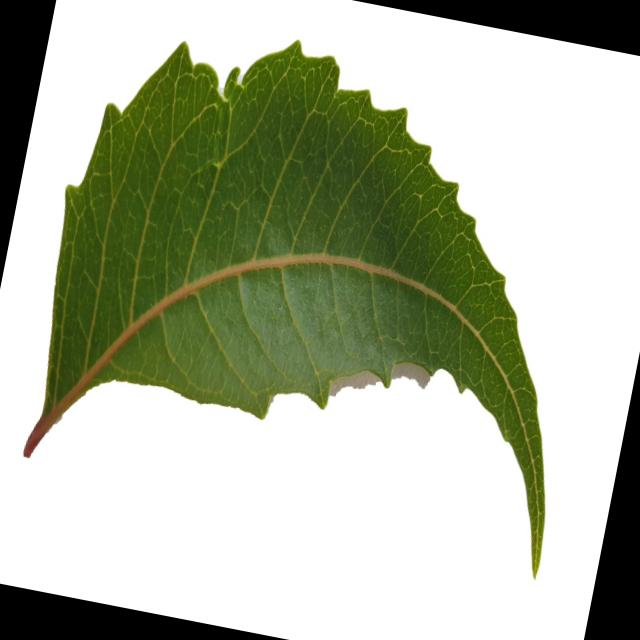Medicinal-Neem: (2, 0, 631, 580)
